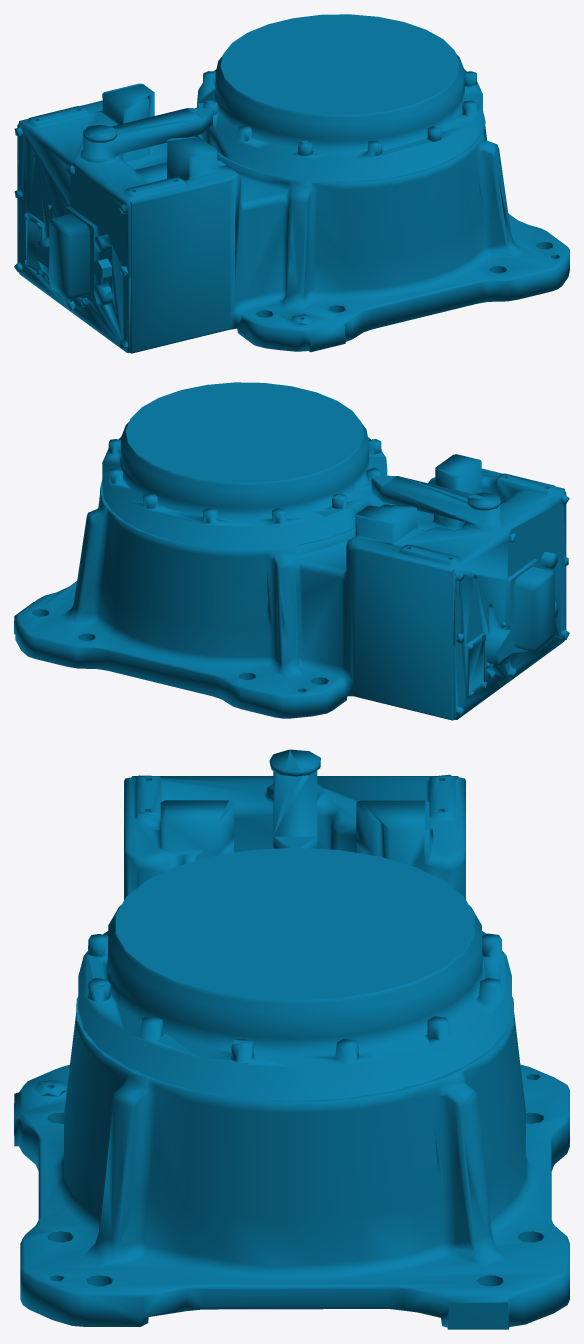
The picture shows the model from 3 angles, top to bottom: view 1: azimuth 30°, elevation 25°; view 2: azimuth 150°, elevation 25°; view 3: azimuth 270°, elevation 25°; orthographic projection. The views are drawn at different scales.
Visible parts, largest first — view 1: f_1-06vxl70-a0_lk0; view 2: f_1-06vxl70-a0_lk0; view 3: f_1-06vxl70-a0_lk0.
Part boxes in pixels (box(x1,y1,x2,y2)): f_1-06vxl70-a0_lk0: box(14, 14, 569, 353); f_1-06vxl70-a0_lk0: box(14, 382, 569, 720); f_1-06vxl70-a0_lk0: box(14, 749, 569, 1329).
Bounding box in the file's own units: 0.645 × 0.4552 × 0.2591.
